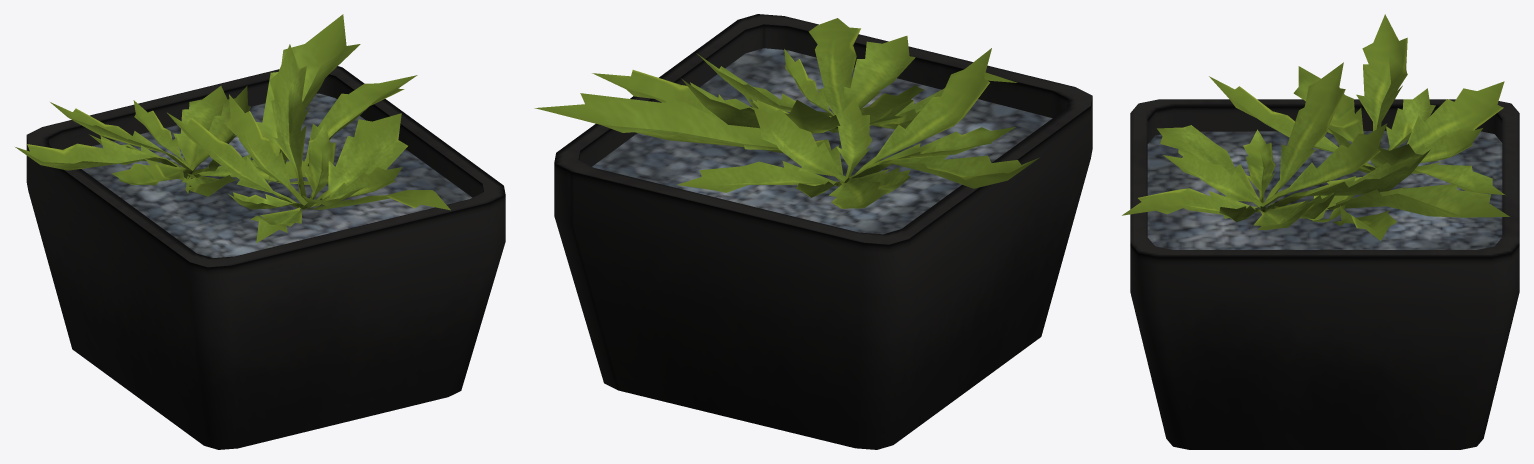
File: PCheesemanii.FBX
3 renders of one model, left to right at view 1: azimuth 30°, elevation 25°; view 2: azimuth 150°, elevation 25°; view 3: azimuth 270°, elevation 25°, orthographic. The views are drawn at different scales.
Visible parts, largest first — view 1: Pot8, PCheesemanii2Mesh, Soil8; view 2: Pot8, PCheesemanii2Mesh, Soil8; view 3: Pot8, PCheesemanii2Mesh, Soil8.
Part boxes in pixels (x1,y1,x2,y2): Pot8: [26, 66, 505, 449]; PCheesemanii2Mesh: [15, 14, 450, 242]; Soil8: [82, 93, 472, 257]; Pot8: [554, 14, 1092, 449]; PCheesemanii2Mesh: [534, 18, 1039, 208]; Soil8: [592, 48, 1052, 234]; Pot8: [1130, 99, 1519, 449]; PCheesemanii2Mesh: [1122, 14, 1509, 240]; Soil8: [1147, 131, 1502, 249].
Size of the model in its own units: 12.9 by 8.28 by 10.77.
1 material, 1 textured.
